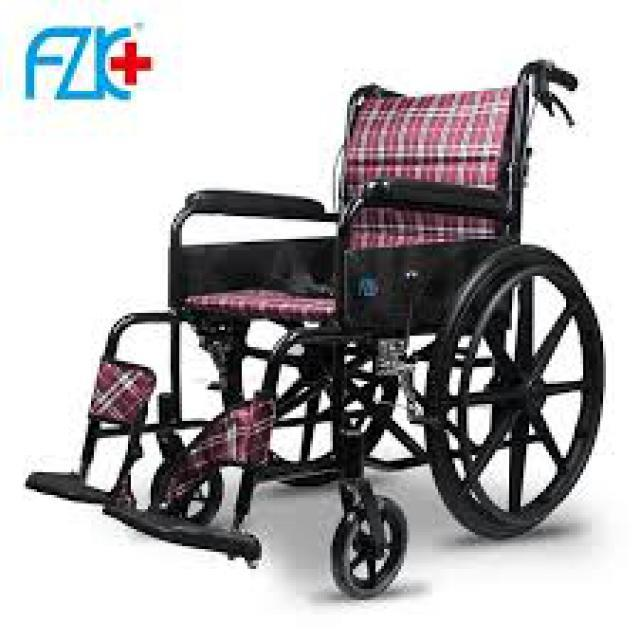wheelchair: (20, 49, 618, 600)
